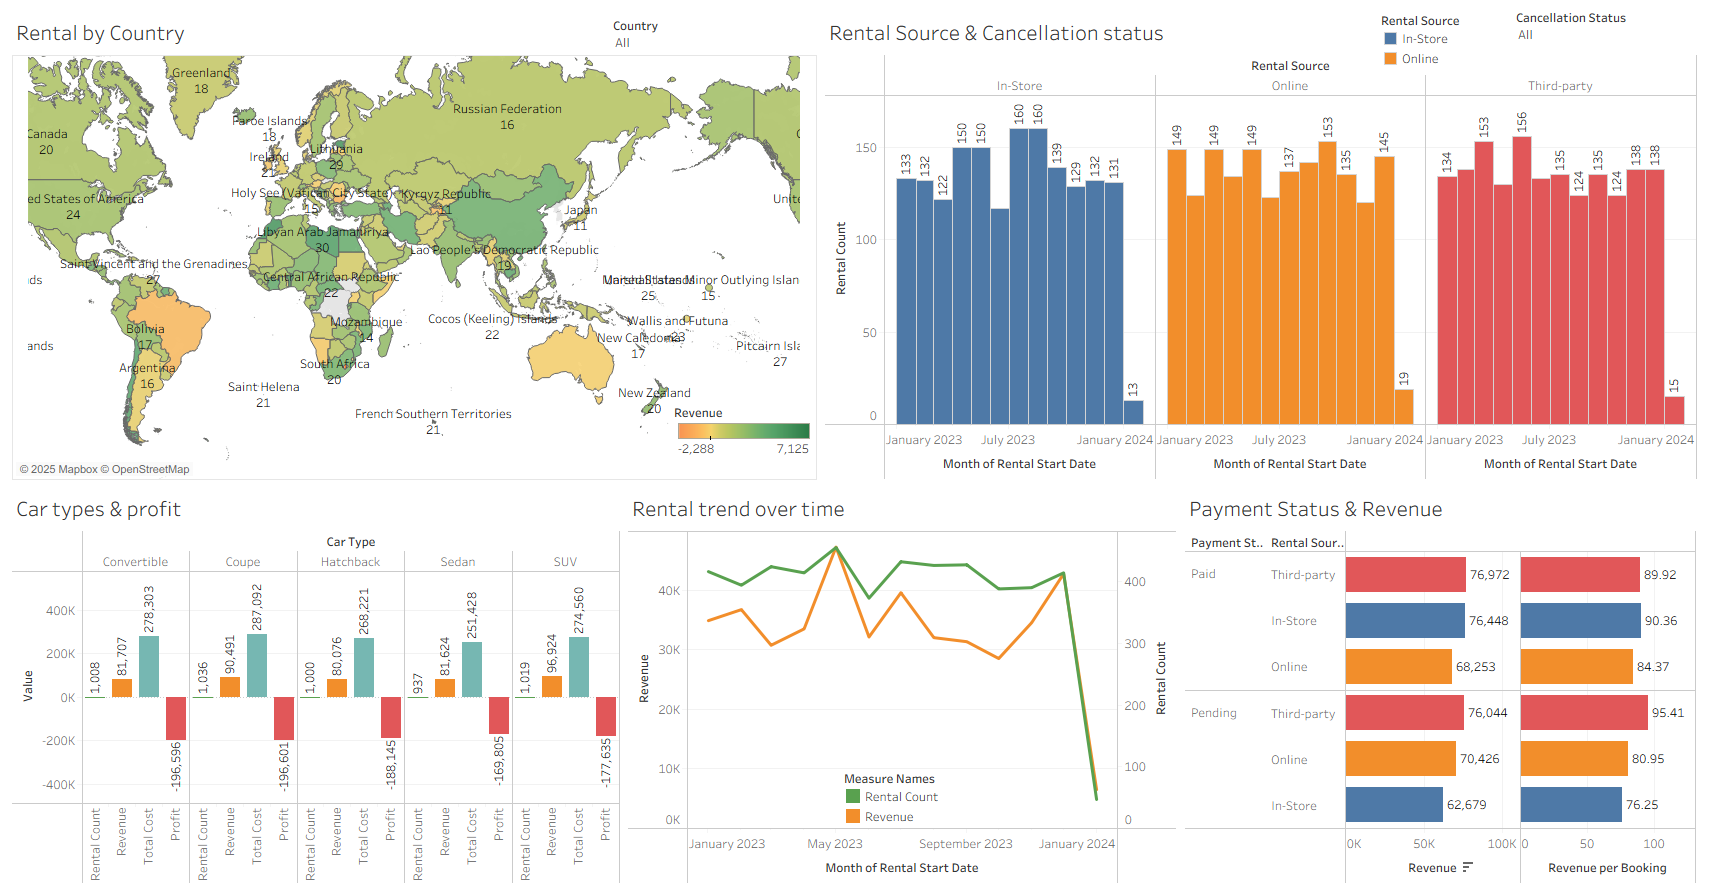

This screenshot's page, from the dashboard's own definition file:
{"tool":"tableau","page":{"name":"Drive Car Rental Dashboard","canvas":[1000,1000],"units":"permille","ordinal":0},"visuals":[{"type":"worksheet","title":"Rental by Country","mark":"Automatic","box":[4.7,8.9,475.7,531.2]},{"type":"worksheet","title":"Rental Source & Cancellation status","mark":"Bar","rows":["Calculation_4925249149359759361"],"cols":["Rental Source","Rental Start Date"],"box":[480.4,8.9,514.9,531.2]},{"type":"filter","title":"Rental by Country","param":"[federated.1lwwm3d00mu3m1186buwk14apvqr].[none:Cancellation Status:nk]","box":[887.1,8.9,98.3,99.3]},{"type":"legend","title":"Rental Source & Cancellation status","param":"[federated.1lwwm3d00mu3m1186buwk14apvqr].[none:Rental Source:nk]","box":[807.5,11.2,81.9,64.7]},{"type":"filter","title":"Rental trend over time","param":"[federated.1lwwm3d00mu3m1186buwk14apvqr].[none:Country:nk]","box":[358.7,17.9,98.3,58]},{"type":"legend","title":"Rental by Country","param":"[federated.1lwwm3d00mu3m1186buwk14apvqr].[sum:Revenue:qk]","box":[394.4,446.4,81.9,84.8]},{"type":"worksheet","title":"Car types & profit","mark":"Automatic","cols":["Car Type"],"box":[4.7,540.2,360.4,450.9]},{"type":"worksheet","title":"Rental trend over time","mark":"Automatic","rows":["Revenue","Calculation_4925249149359759361"],"cols":["Rental Start Date"],"box":[365.1,540.2,325.9,450.9]},{"type":"worksheet","title":"Payment Status & Revenue","mark":"Automatic","rows":["Payment Status","Rental Source"],"cols":["Revenue","Calculation_4925249149472817155"],"box":[691.1,540.2,304.3,450.9]},{"type":"legend","title":"Rental trend over time","param":"[federated.1lwwm3d00mu3m1186buwk14apvqr].[:Measure Names]","box":[493.3,857.1,81.9,64.7]}]}

Visuals, with their boxes on the dashboard's canvas, which has no fixed pixel size, in thousandths of its width and height (x1, y1, x2, y2). These are canvas units, not pixel positions in the 1709x896 screenshot, which may show the page scaled, cropped or inside an application window:
"Rental by Country" worksheet: <box>5,9,480,540</box>
"Rental Source & Cancellation status" worksheet (Bar marks): <box>480,9,995,540</box>
"Rental by Country" filter: <box>887,9,985,108</box>
"Rental Source & Cancellation status" legend: <box>808,11,889,76</box>
"Rental trend over time" filter: <box>359,18,457,76</box>
"Rental by Country" legend: <box>394,446,476,531</box>
"Car types & profit" worksheet: <box>5,540,365,991</box>
"Rental trend over time" worksheet: <box>365,540,691,991</box>
"Payment Status & Revenue" worksheet: <box>691,540,995,991</box>
"Rental trend over time" legend: <box>493,857,575,922</box>
